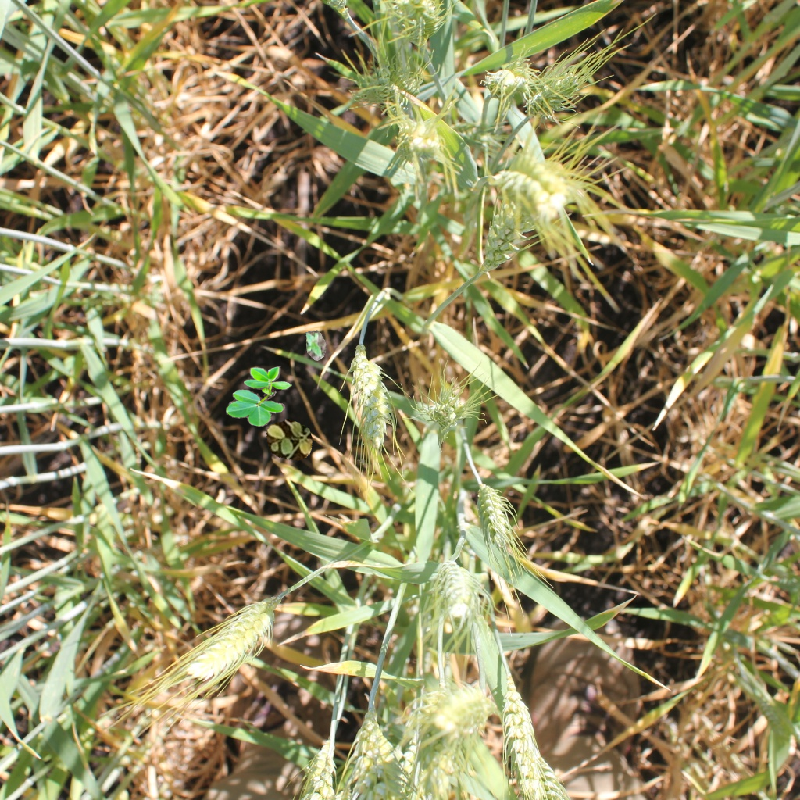spikelet: (496, 677, 567, 799), (182, 596, 279, 684), (429, 682, 485, 800), (344, 346, 392, 449), (491, 158, 573, 218), (350, 716, 406, 799), (354, 55, 426, 113), (479, 199, 530, 271), (432, 557, 484, 619), (527, 69, 583, 116), (381, 1, 443, 42), (299, 739, 339, 800), (473, 482, 513, 541), (482, 59, 535, 102), (395, 116, 444, 160), (420, 389, 469, 432)
weed: (226, 366, 292, 427), (262, 412, 319, 469), (301, 328, 330, 363)
